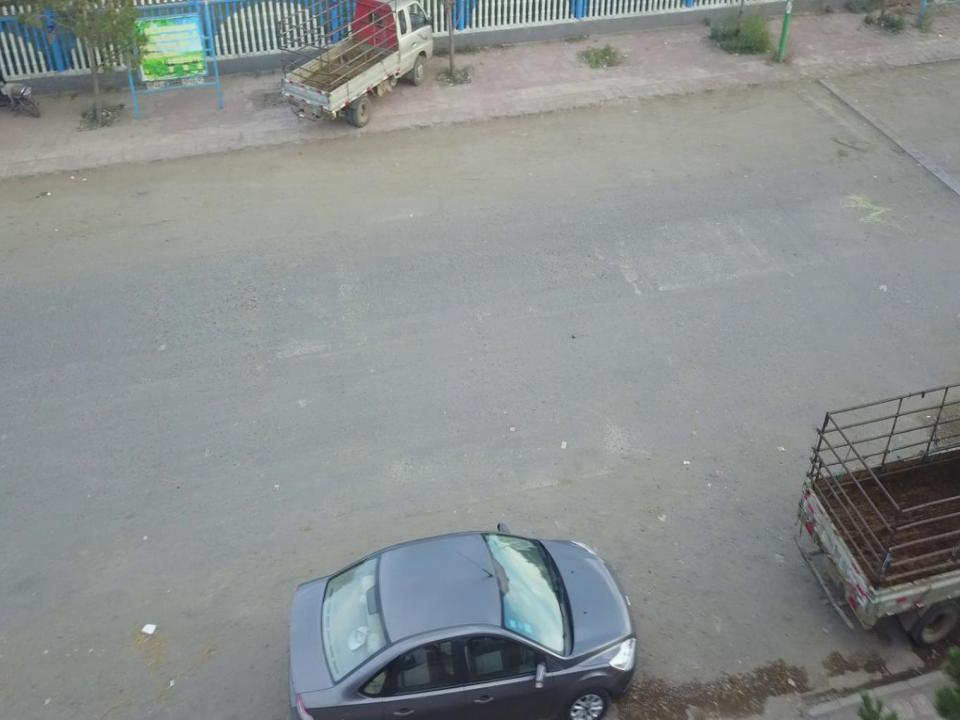car: (278, 536, 646, 718)
truck: (784, 356, 960, 654), (269, 3, 439, 133)
